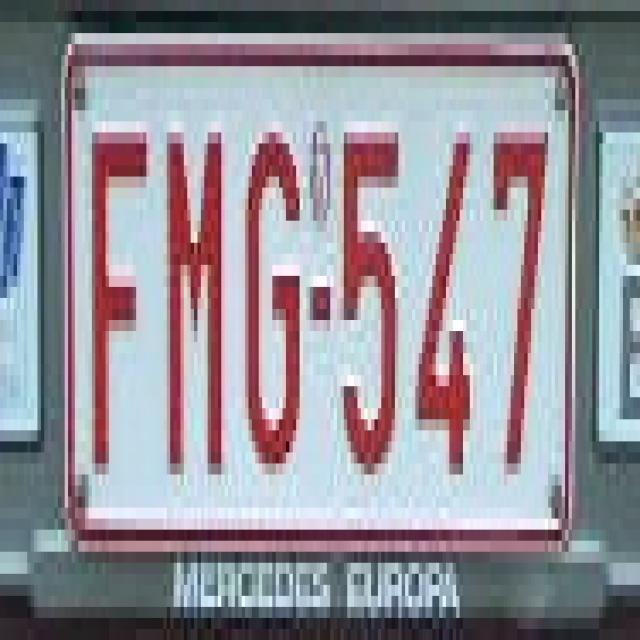4: (409, 110, 480, 508)
5: (334, 77, 402, 486)
7: (483, 110, 555, 474)
F: (85, 100, 157, 474)
G: (238, 100, 306, 486)
M: (153, 100, 228, 486)
